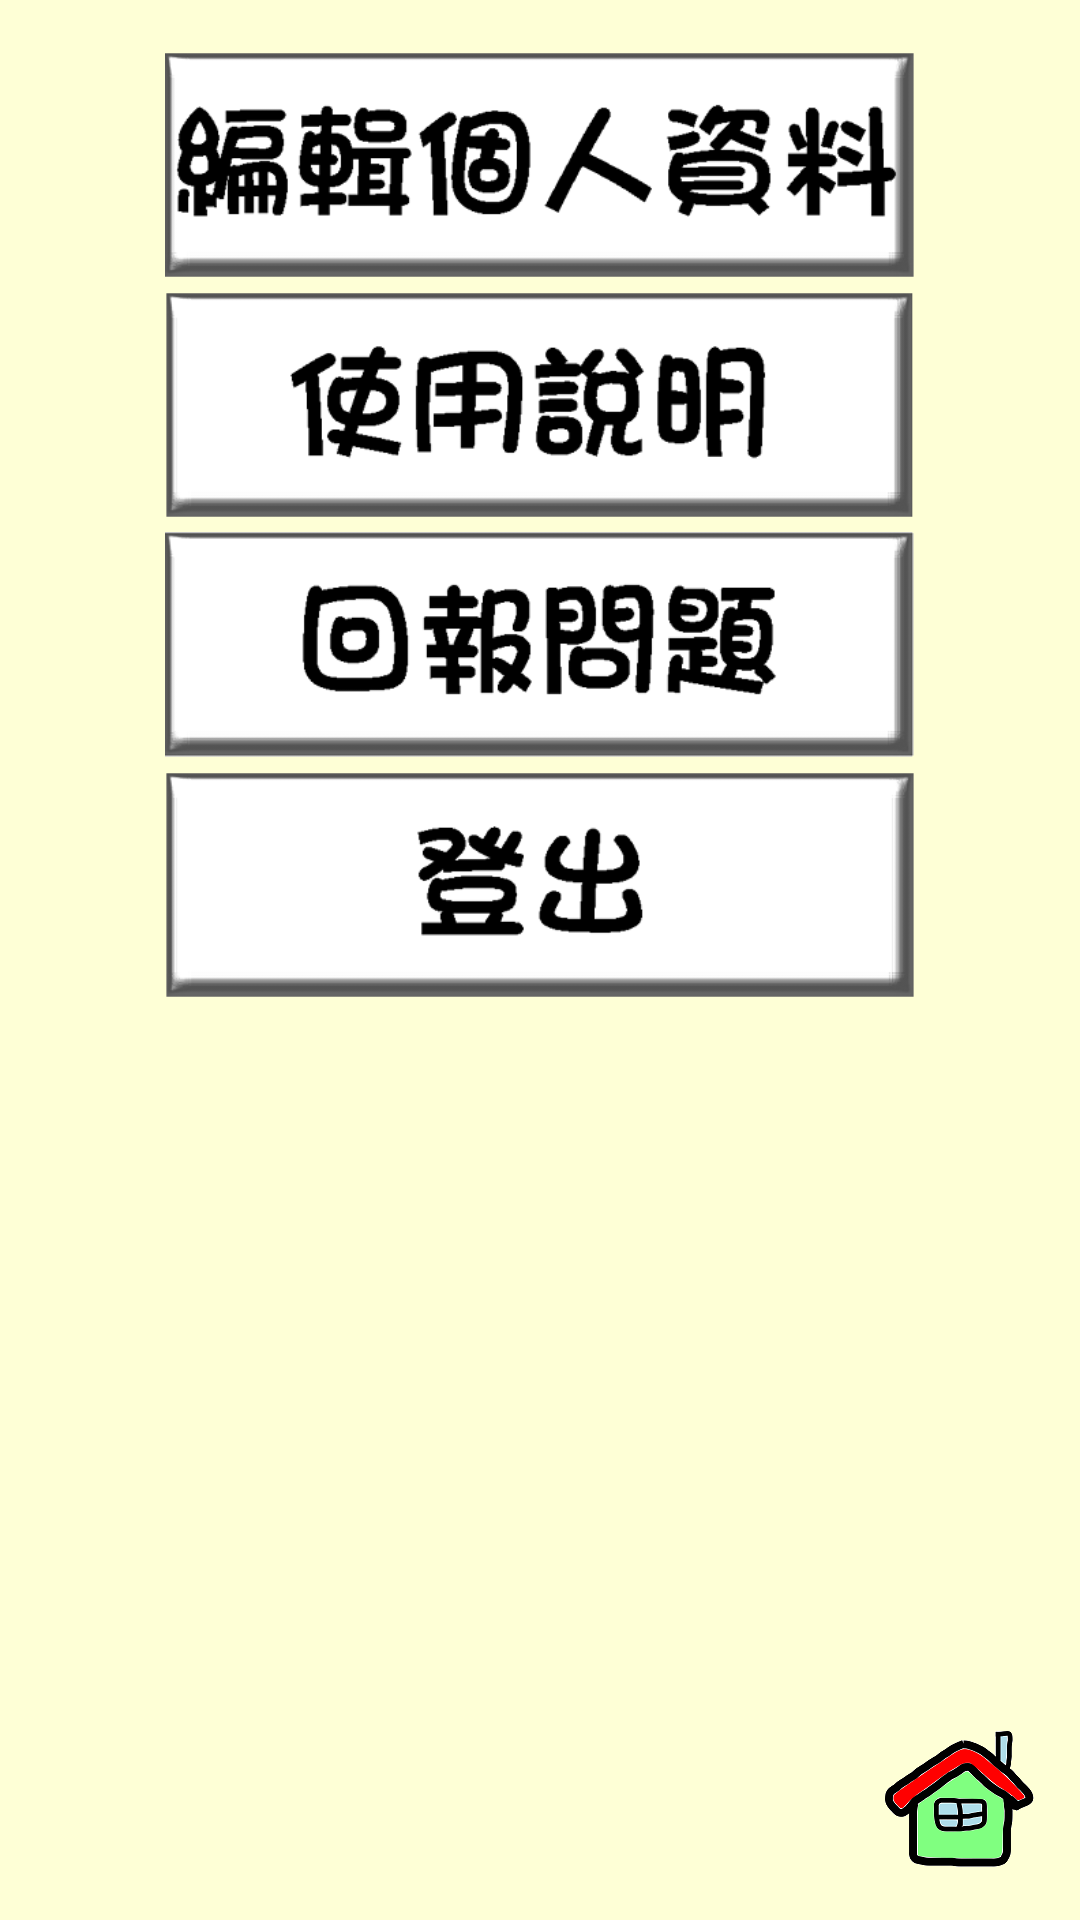

Icons on this 1080px×1920px Android screen, each with its box as [x1=x1, y1=y1, x2=x2, y2=y2]:
home: [x1=885, y1=1731, x2=1034, y2=1867]
